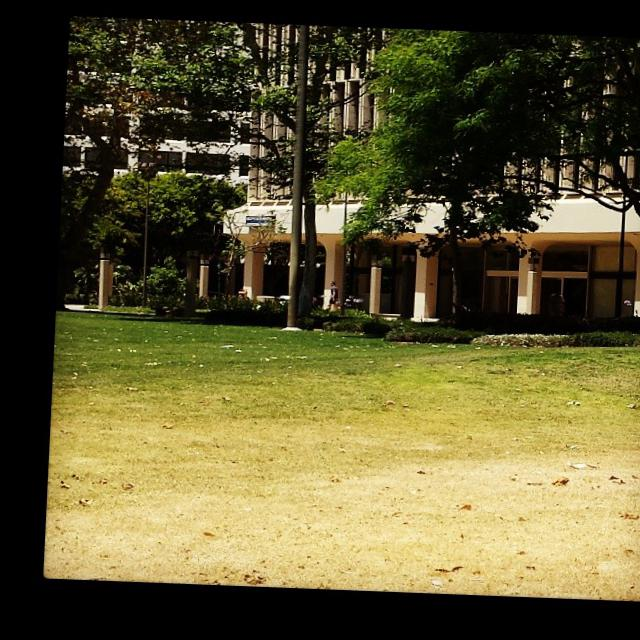patch: (307, 393, 444, 506), (501, 379, 607, 492), (149, 404, 261, 496), (201, 515, 317, 585), (332, 520, 429, 579), (512, 519, 569, 570), (453, 527, 495, 569), (451, 408, 482, 451), (269, 437, 288, 477)
